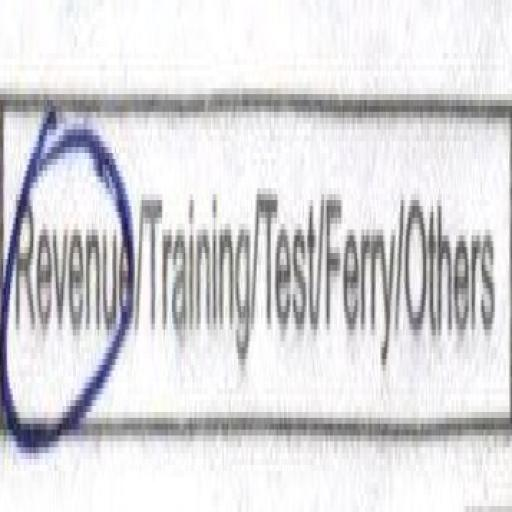check: (0, 29, 139, 459)
